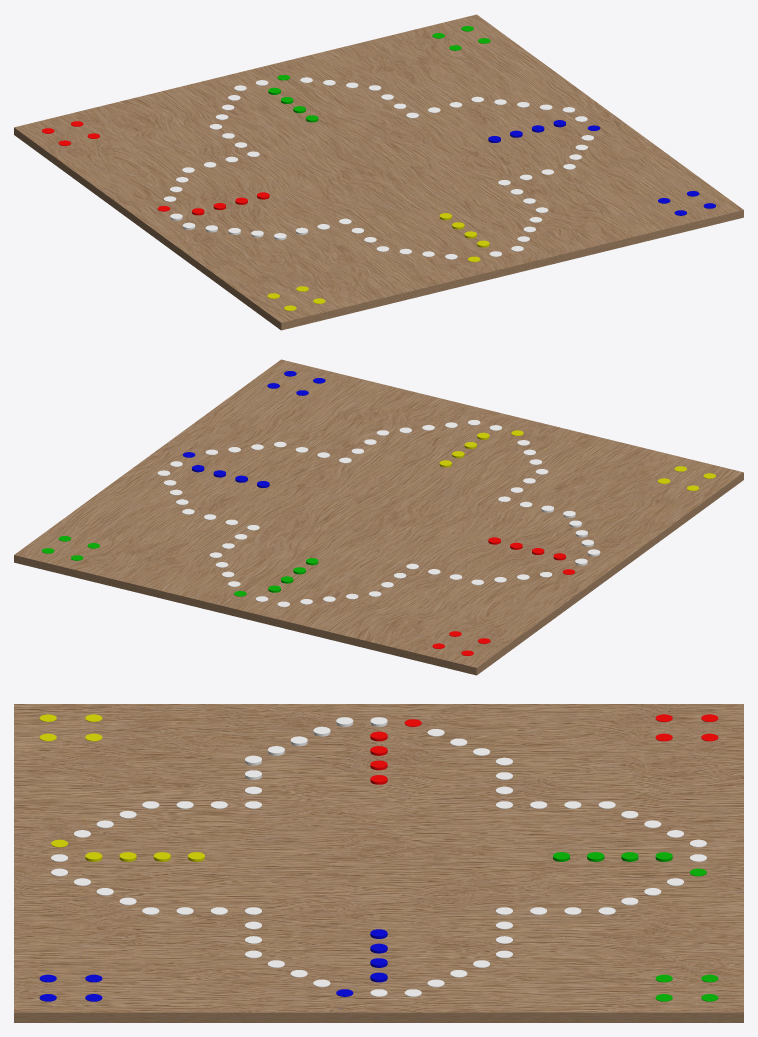
File: board.glb
3 views of the same model, one above another, from view 1: azimuth 30°, elevation 25°; view 2: azimuth 150°, elevation 25°; view 3: azimuth 270°, elevation 25° (orthographic). The views are drawn at different scales.
Parts seen in each view (by area): view 1: Cube; view 2: Cube; view 3: Cube.
Part boxes in pixels (x1=…): Cube: x1=14, y1=14, x2=743, y2=330; Cube: x1=14, y1=359, x2=743, y2=675; Cube: x1=14, y1=704, x2=743, y2=1022.
Bounding box in the file's own units: 1.28 × 0.025 × 1.28.
Materials: 6 (1 with a texture image).
